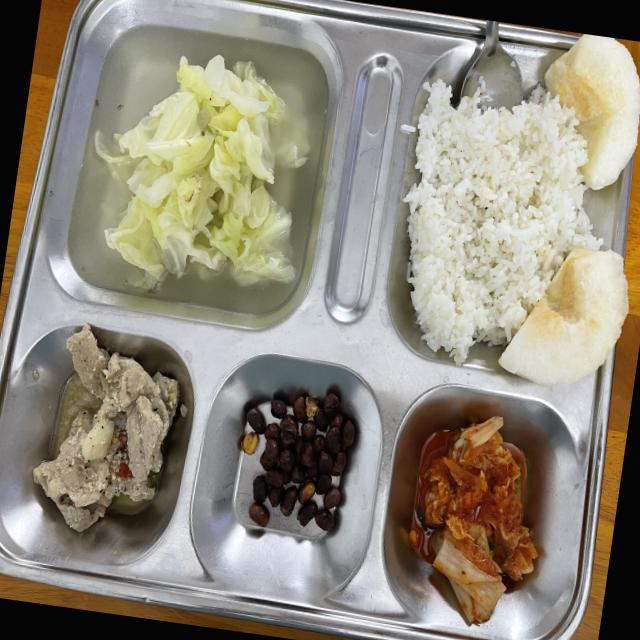bap cai luoc: (67, 24, 329, 314)
com: (403, 79, 603, 366)
kho tieu: (33, 324, 179, 532)
